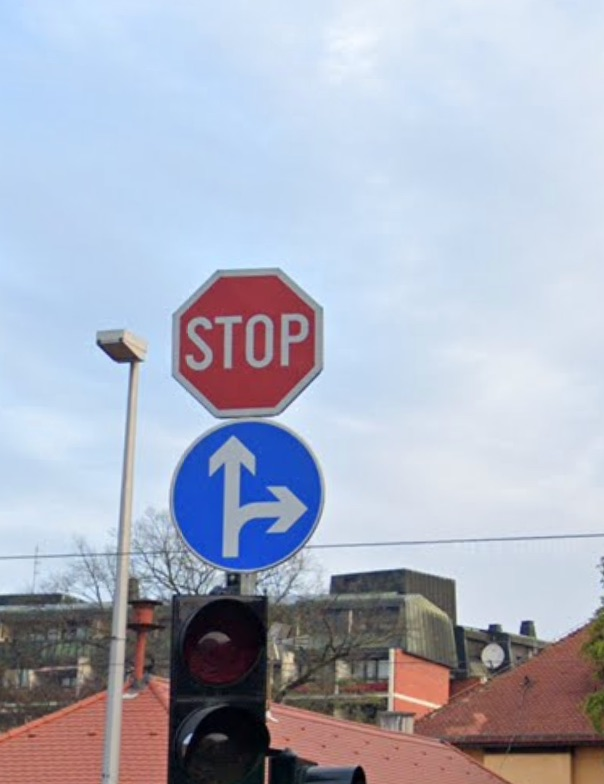Obavezno zaustavljanje: (170, 265, 324, 417)
